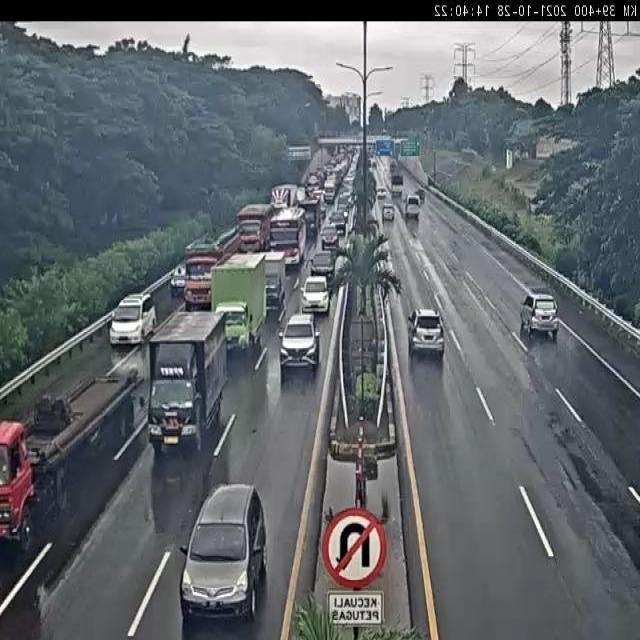Car: (181, 482, 267, 622), (279, 312, 321, 379), (110, 292, 158, 347), (509, 296, 563, 341), (214, 300, 252, 354), (408, 308, 445, 357), (300, 275, 330, 314), (311, 251, 336, 281), (170, 264, 187, 297), (336, 192, 353, 222), (320, 225, 339, 250), (327, 211, 346, 236), (405, 193, 421, 220), (323, 175, 337, 202), (391, 173, 403, 197), (382, 204, 395, 222), (312, 187, 325, 205), (416, 188, 425, 203), (376, 187, 386, 200), (390, 161, 398, 173)
Truck: (7, 366, 144, 554), (130, 298, 218, 460), (184, 238, 232, 311), (268, 207, 307, 270), (237, 203, 275, 254), (262, 251, 289, 314), (296, 185, 322, 237)
